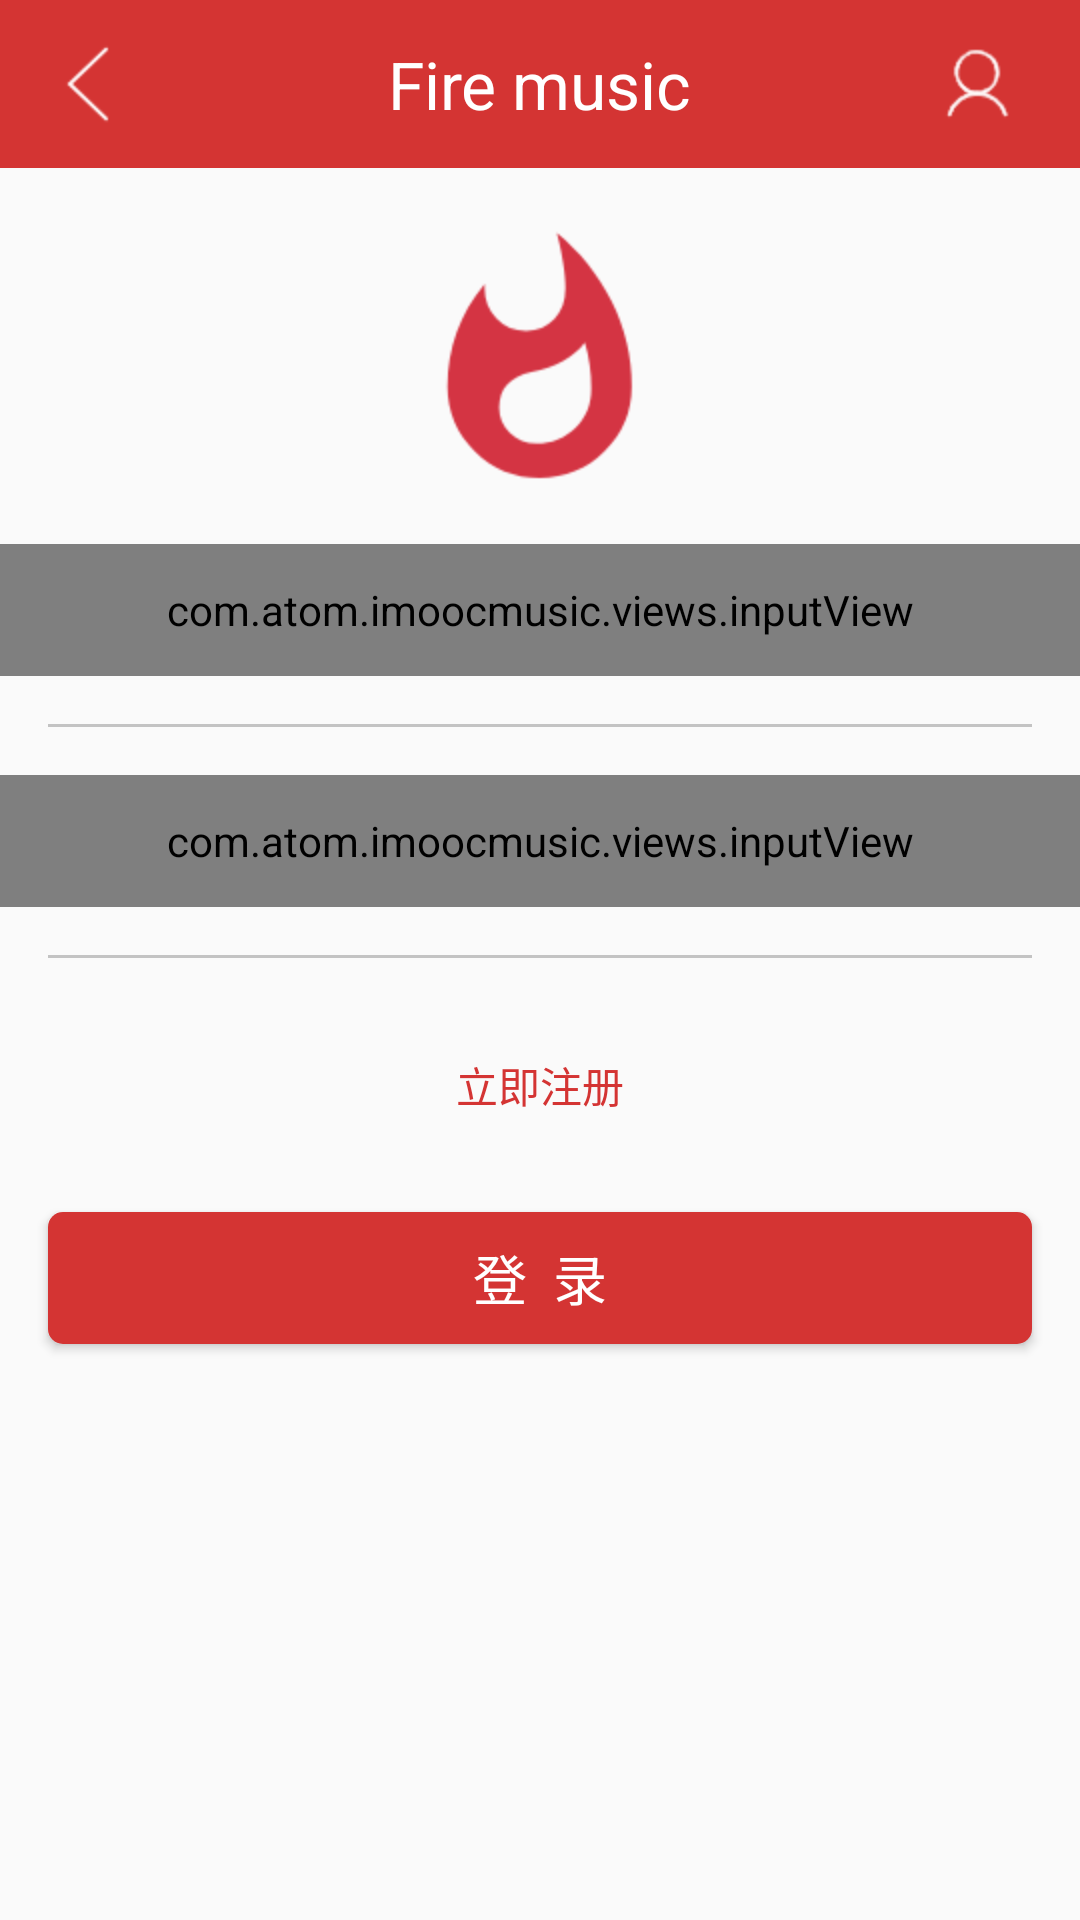

Icon click points for this 1080px×1920px phone screenshot, format point (x, y):
back: point (88, 84)
person: point (978, 83)
